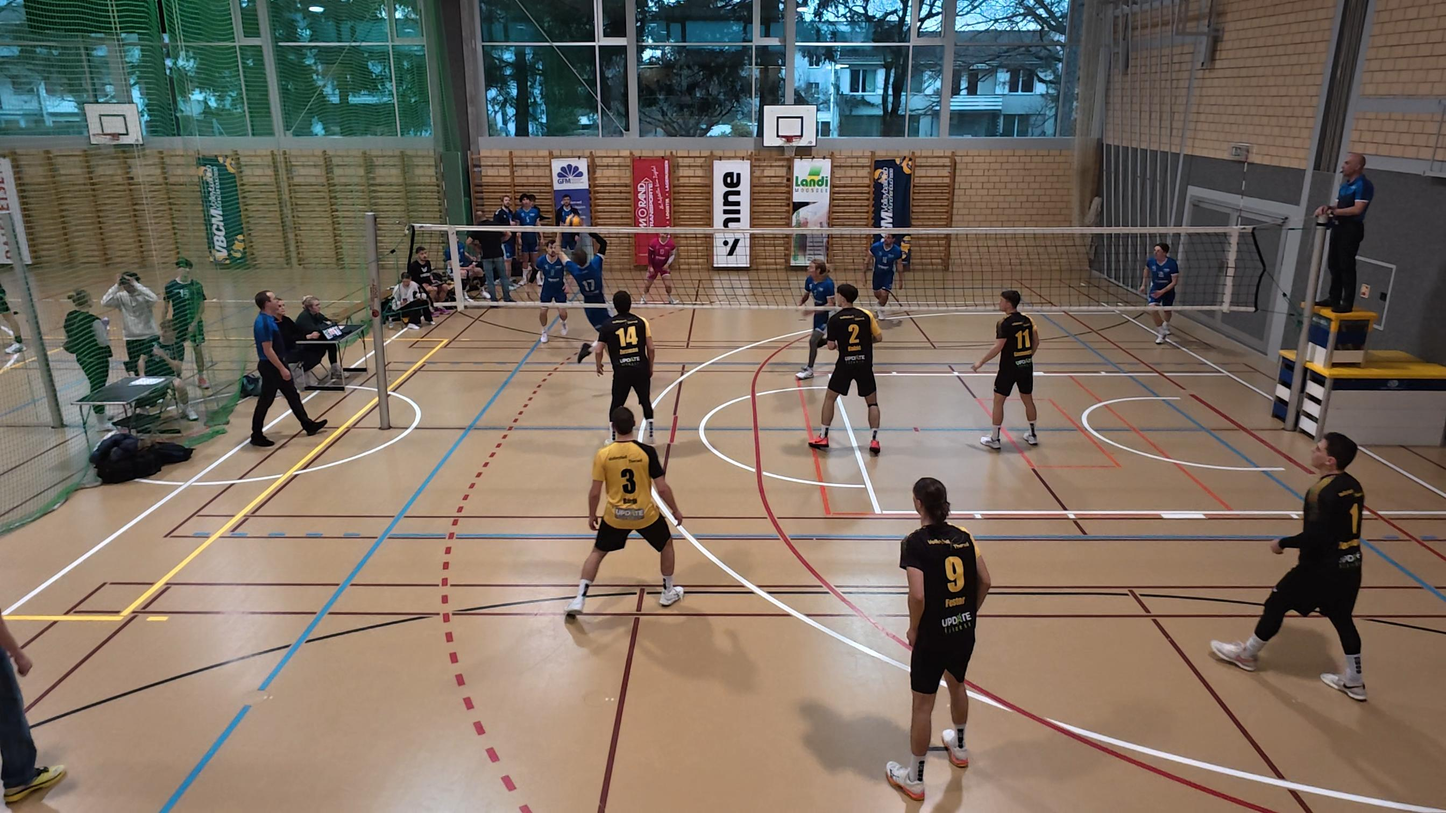Player: (1212, 432, 1369, 702), (886, 477, 993, 798), (566, 406, 684, 618), (807, 282, 883, 454), (975, 290, 1040, 450), (595, 290, 659, 443), (795, 259, 838, 380), (534, 239, 574, 344), (865, 233, 909, 327), (1142, 242, 1180, 345), (637, 234, 679, 306)
Set: (565, 229, 616, 372)
ball: (565, 213, 584, 229)
